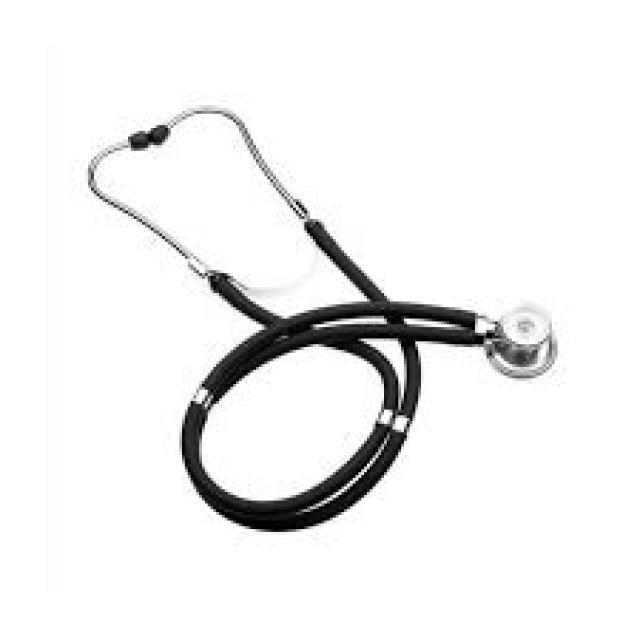stethoscope: (47, 77, 604, 546)
